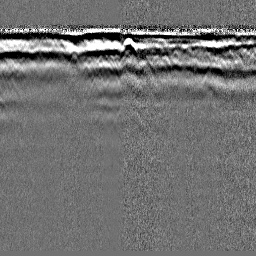cavity: (119, 36, 138, 58)
